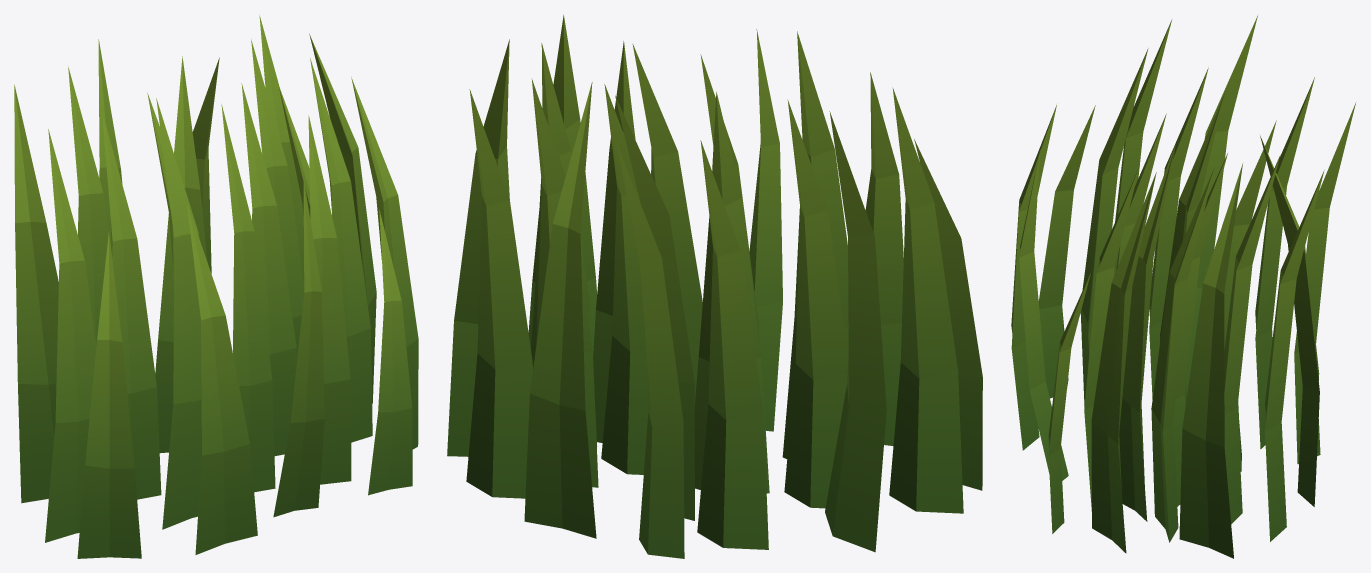
Rendered from Grass_04.fbx.
The picture shows the model from 3 angles, left to right: view 1: azimuth 30°, elevation 25°; view 2: azimuth 150°, elevation 25°; view 3: azimuth 270°, elevation 25°; orthographic projection. The views are drawn at different scales.
Visible parts, largest first — view 1: Grass_04; view 2: Grass_04; view 3: Grass_04.
Part boxes in pixels (left/top/right/bottom): Grass_04: left=14, top=15, right=418, bottom=558; Grass_04: left=447, top=14, right=982, bottom=558; Grass_04: left=1011, top=15, right=1355, bottom=558.
Bounding box in the file's own units: 0.3985 × 0.3971 × 0.3168.
